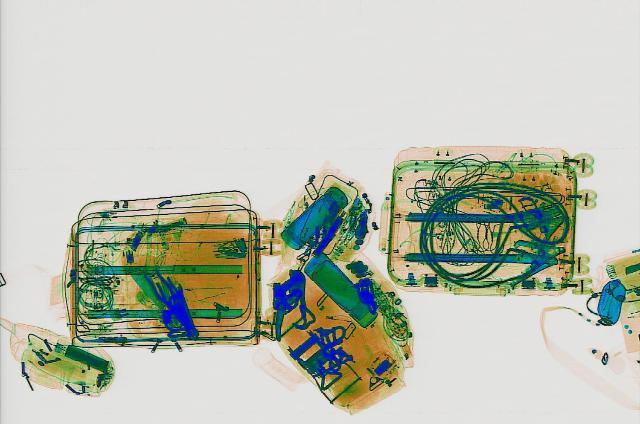Pliers: (136, 265, 200, 332)
